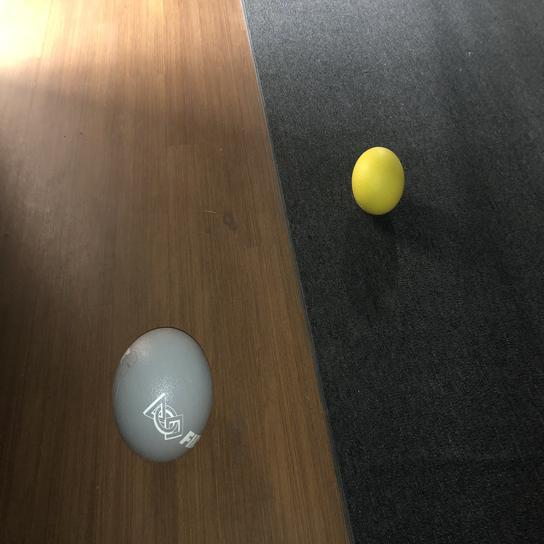ball: (345, 144, 405, 221)
